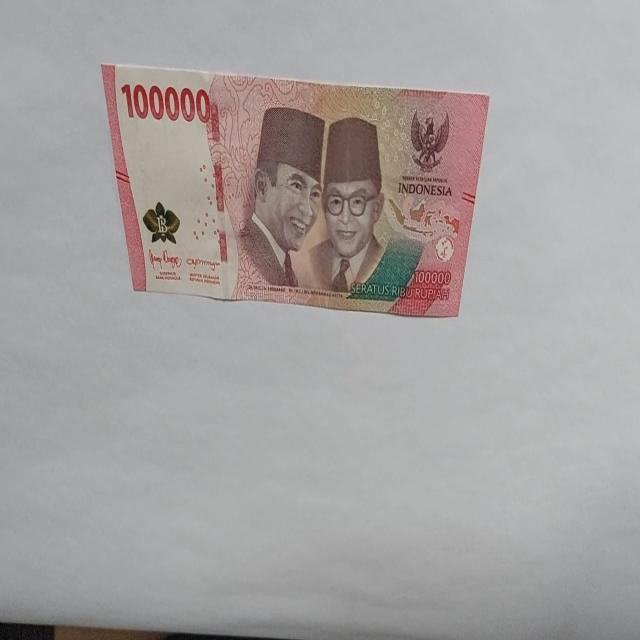seratus ribu rupiah: (100, 62, 490, 319), (236, 105, 325, 290)
